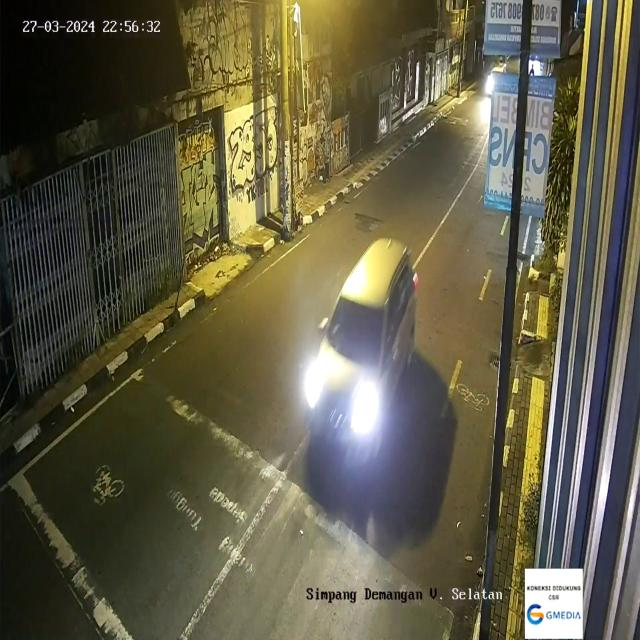car: (299, 238, 420, 468)
